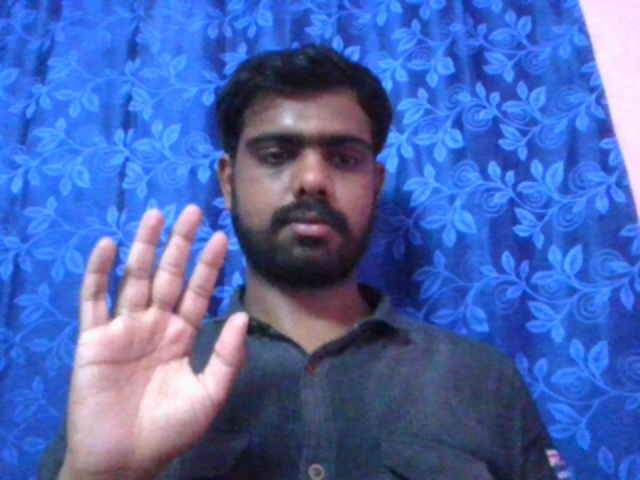Hello: (67, 203, 250, 468)
